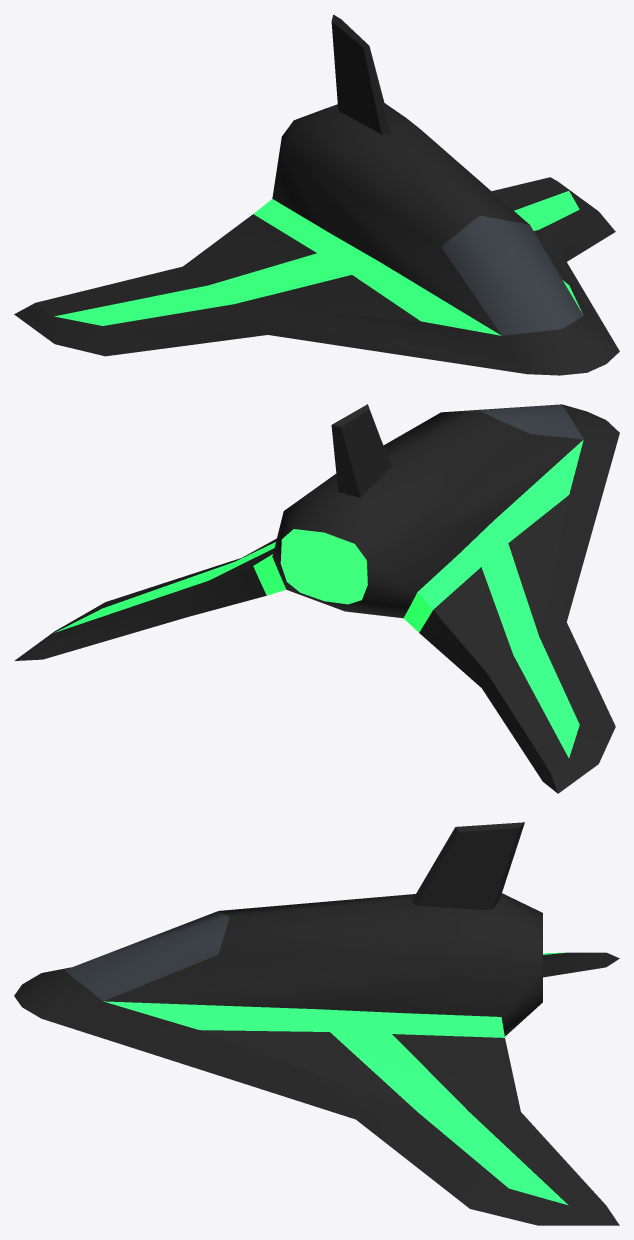
Rendered from playershiptextured.fbx.
3 renders of one model, top to bottom at view 1: azimuth 30°, elevation 25°; view 2: azimuth 150°, elevation 25°; view 3: azimuth 270°, elevation 25°, orthographic.
Visible parts, largest first — view 1: Cube, Cube.001; view 2: Cube, Cube.001; view 3: Cube, Cube.001.
Boxes of the visible parts, x1,y1,x2,y2 form: Cube: [14, 103, 619, 375]; Cube.001: [331, 14, 392, 134]; Cube: [14, 404, 619, 793]; Cube.001: [331, 404, 391, 497]; Cube: [14, 893, 619, 1225]; Cube.001: [411, 822, 524, 909].
Size of the model in its own units: 354 by 167 by 339.
